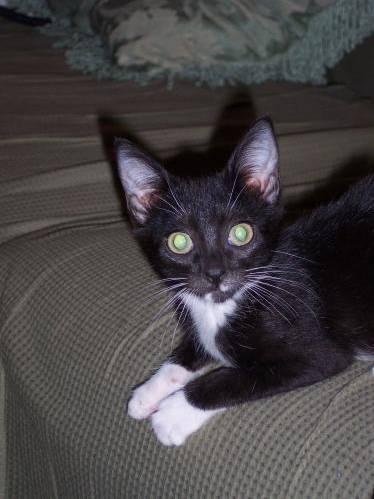cat: (107, 117, 373, 445)
